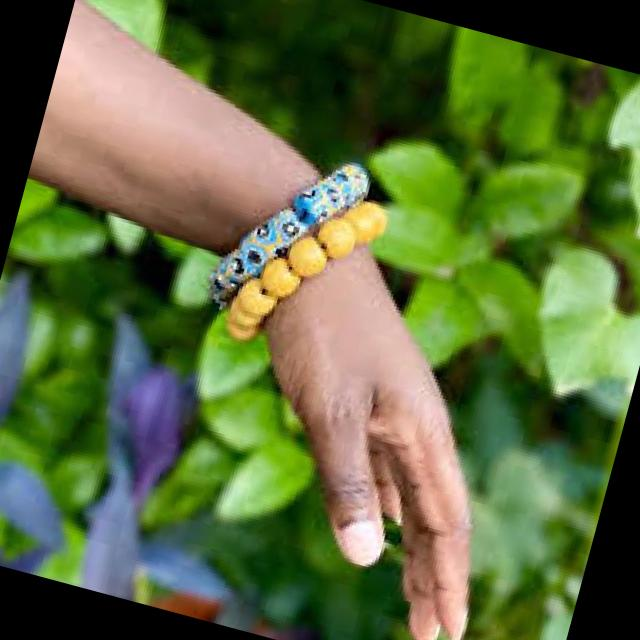Nail: (334, 516, 384, 566)
